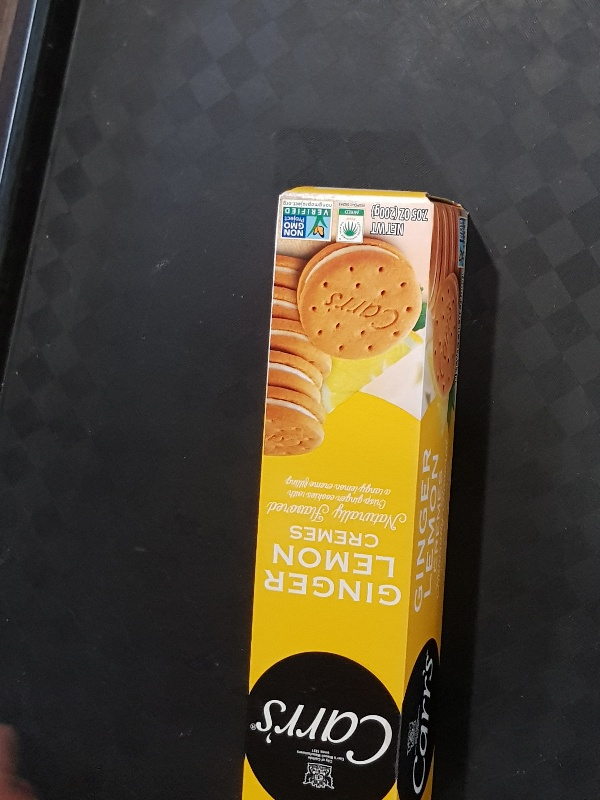Carr's Ginger Lemon Cremes: (237, 182, 471, 800)
